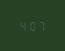four: (18, 20, 26, 31)
seven: (37, 19, 45, 30)
zero: (28, 20, 36, 30)
